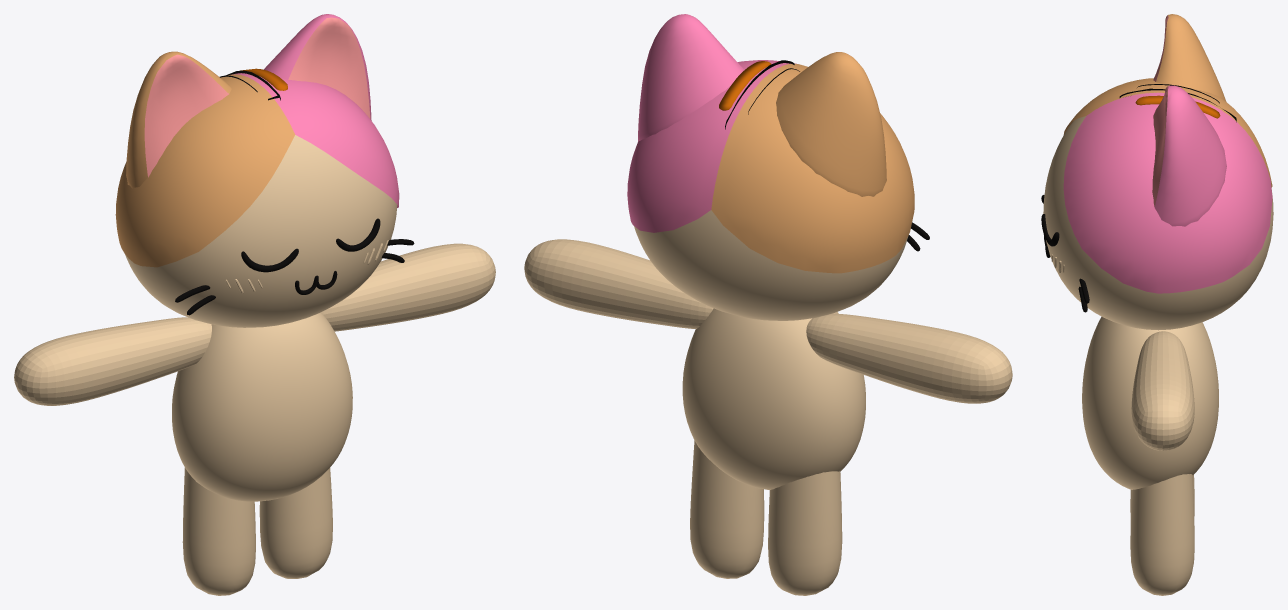
The model's file is Gojil_The_Meow.fbx.
3 renders of one model, left to right at view 1: azimuth 30°, elevation 25°; view 2: azimuth 150°, elevation 25°; view 3: azimuth 270°, elevation 25°, orthographic. The views are drawn at different scales.
Visible parts, largest first — view 1: Cube.001; view 2: Cube.001; view 3: Cube.001.
Part boxes in pixels (x1,y1,x2,y2): Cube.001: [14, 14, 495, 595]; Cube.001: [524, 14, 1012, 595]; Cube.001: [1041, 14, 1273, 595].
Size of the model in its own units: 330 by 364 by 147.
